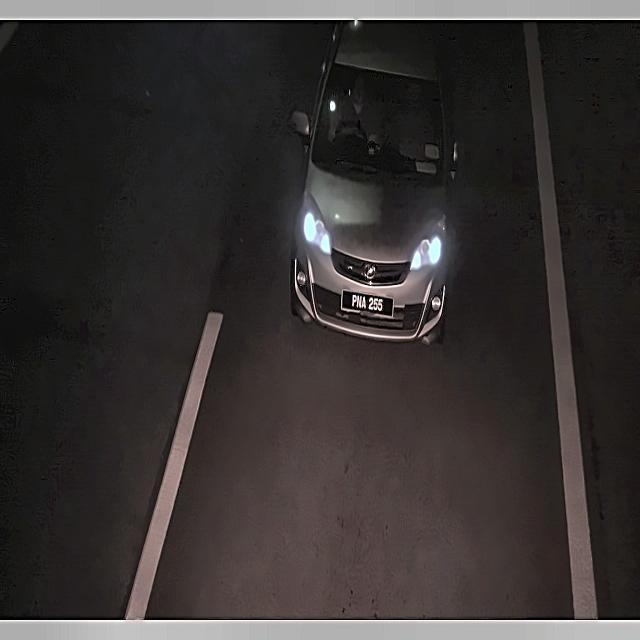car: (340, 280, 398, 329)
